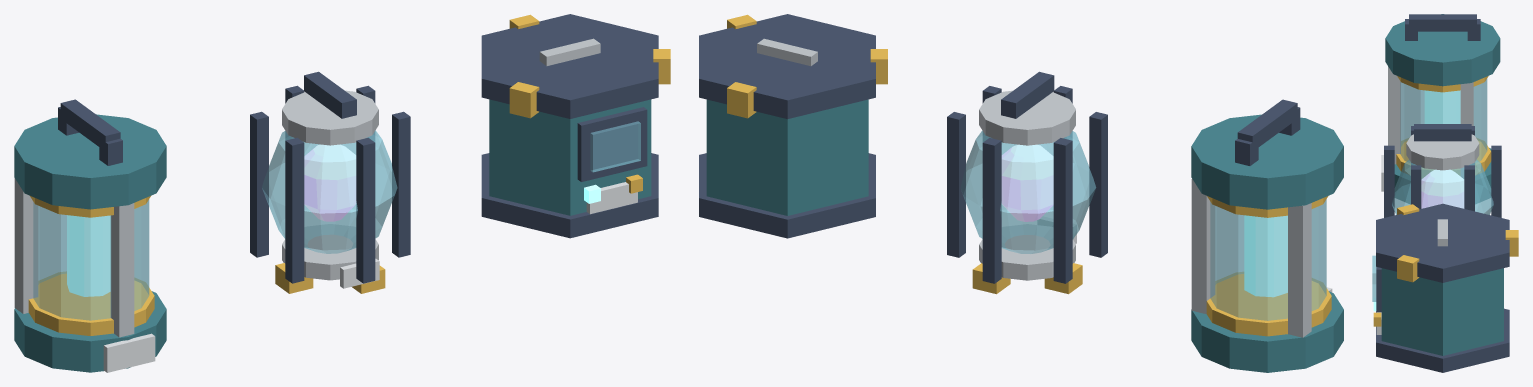
3 views of the same model, side by side, from view 1: azimuth 30°, elevation 25°; view 2: azimuth 150°, elevation 25°; view 3: azimuth 270°, elevation 25° (orthographic). The views are drawn at different scales.
Visible parts, largest first — view 1: DL004_SampleCanisterFamily_graphite_navy, DL004_SampleCanisterFamily_teal_shell, DL004_SampleCanisterFamily_glass_cyan, DL004_SampleCanisterFamily_titanium, DL004_SampleCanisterFamily_amber_accent, DL004_SampleCanisterFamily_emissive_cyan, DL004_SampleCanisterFamily_specimen_violet, DL004_SampleCanisterFamily_hull_offwhite; view 2: DL004_SampleCanisterFamily_graphite_navy, DL004_SampleCanisterFamily_teal_shell, DL004_SampleCanisterFamily_glass_cyan, DL004_SampleCanisterFamily_titanium, DL004_SampleCanisterFamily_amber_accent, DL004_SampleCanisterFamily_specimen_violet, DL004_SampleCanisterFamily_emissive_cyan; view 3: DL004_SampleCanisterFamily_graphite_navy, DL004_SampleCanisterFamily_teal_shell, DL004_SampleCanisterFamily_glass_cyan, DL004_SampleCanisterFamily_titanium, DL004_SampleCanisterFamily_amber_accent, DL004_SampleCanisterFamily_specimen_violet, DL004_SampleCanisterFamily_emissive_cyan, DL004_SampleCanisterFamily_hull_offwhite.
Part boxes in pixels (box(x1,y1,x2,y2)): DL004_SampleCanisterFamily_graphite_navy: box(58, 14, 658, 283); DL004_SampleCanisterFamily_teal_shell: box(14, 99, 651, 372); DL004_SampleCanisterFamily_glass_cyan: box(33, 121, 640, 320); DL004_SampleCanisterFamily_titanium: box(14, 38, 600, 337); DL004_SampleCanisterFamily_amber_accent: box(28, 14, 670, 335); DL004_SampleCanisterFamily_emissive_cyan: box(67, 184, 600, 296); DL004_SampleCanisterFamily_specimen_violet: box(304, 144, 356, 221); DL004_SampleCanisterFamily_hull_offwhite: box(103, 182, 637, 372); DL004_SampleCanisterFamily_graphite_navy: box(699, 14, 1300, 283); DL004_SampleCanisterFamily_teal_shell: box(706, 99, 1343, 372); DL004_SampleCanisterFamily_glass_cyan: box(960, 130, 1326, 320); DL004_SampleCanisterFamily_titanium: box(757, 38, 1311, 337); DL004_SampleCanisterFamily_amber_accent: box(727, 14, 1331, 336); DL004_SampleCanisterFamily_specimen_violet: box(1001, 144, 1053, 221); DL004_SampleCanisterFamily_emissive_cyan: box(1244, 215, 1287, 297); DL004_SampleCanisterFamily_graphite_navy: box(1376, 14, 1509, 372); DL004_SampleCanisterFamily_teal_shell: box(1381, 14, 1503, 355); DL004_SampleCanisterFamily_glass_cyan: box(1372, 78, 1493, 301); DL004_SampleCanisterFamily_titanium: box(1388, 66, 1479, 246); DL004_SampleCanisterFamily_amber_accent: box(1373, 76, 1518, 326); DL004_SampleCanisterFamily_specimen_violet: box(1421, 169, 1464, 208); DL004_SampleCanisterFamily_emissive_cyan: box(1373, 90, 1460, 311); DL004_SampleCanisterFamily_hull_offwhite: box(1376, 155, 1383, 334).
Size of the model in its own units: 2.12 by 0.71 by 0.56.
